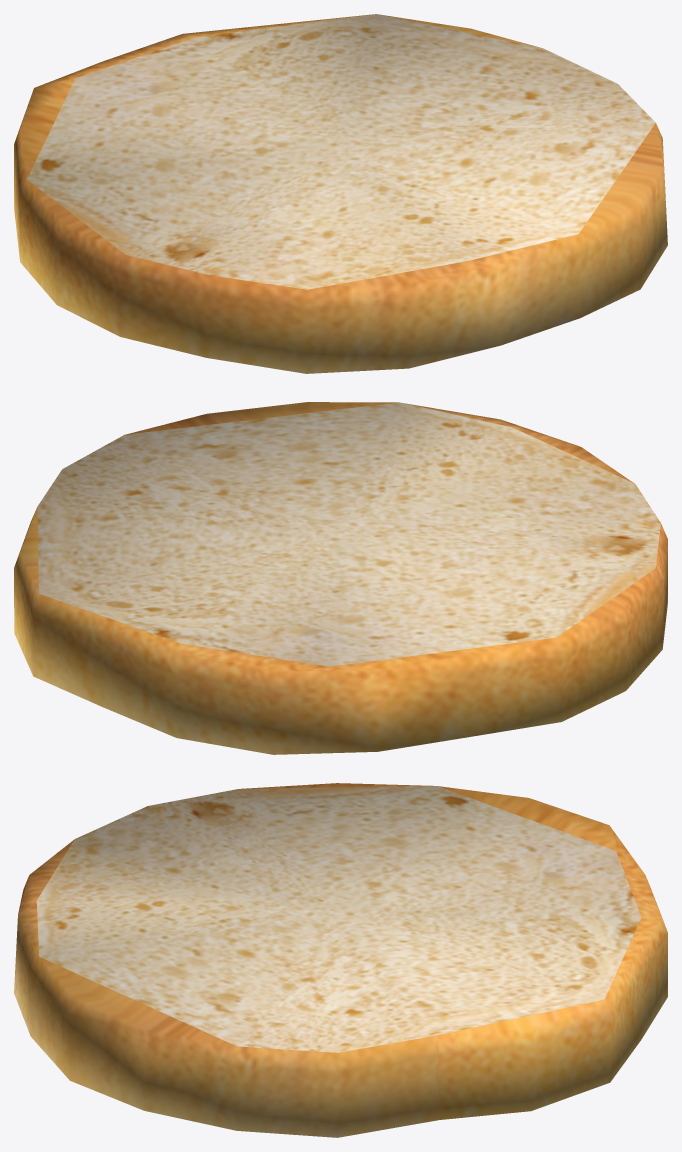
The model's file is burger_bun_04 (1).FBX.
3 renders of one model, top to bottom at view 1: azimuth 30°, elevation 25°; view 2: azimuth 150°, elevation 25°; view 3: azimuth 270°, elevation 25°, orthographic.
Parts seen in each view (by area): view 1: burger_bun_04_LOD00; view 2: burger_bun_04_LOD00; view 3: burger_bun_04_LOD00.
Boxes of the visible parts, x1,y1,x2,y2 form: burger_bun_04_LOD00: (14, 14, 667, 373); burger_bun_04_LOD00: (14, 402, 667, 754); burger_bun_04_LOD00: (14, 783, 667, 1137).
Size of what is drawn, in the model's own units: 13.6 by 2.15 by 13.47.
